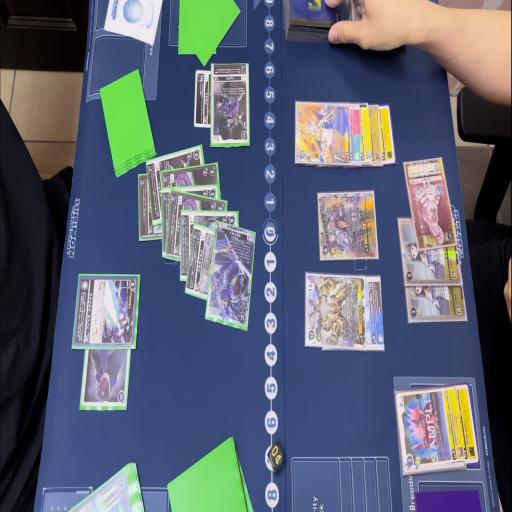card: (206, 223, 263, 332), (72, 270, 142, 353), (395, 388, 464, 470), (304, 268, 365, 354), (316, 189, 383, 266), (404, 154, 458, 249), (146, 144, 205, 224), (178, 211, 238, 289), (165, 194, 229, 265), (397, 214, 462, 282), (296, 103, 353, 173), (78, 343, 132, 413), (211, 60, 250, 154), (63, 467, 133, 512), (404, 282, 470, 326), (186, 223, 215, 298), (457, 374, 478, 465), (136, 172, 160, 244), (162, 163, 222, 190), (364, 273, 384, 354), (194, 66, 217, 128), (380, 102, 396, 166), (160, 183, 172, 255), (350, 98, 362, 169), (361, 99, 373, 168), (370, 102, 382, 167)
